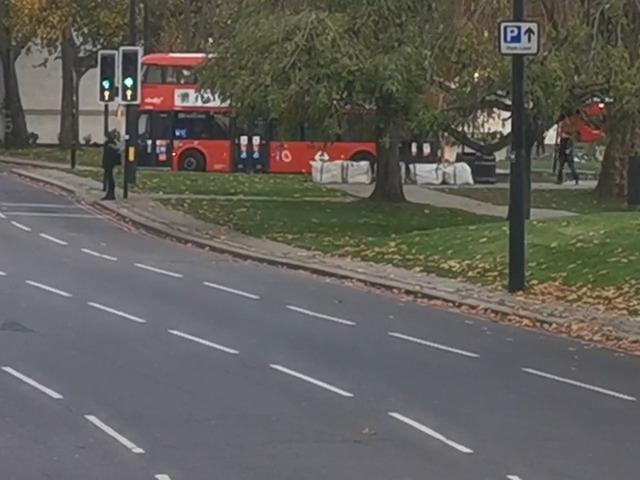bus: (129, 53, 466, 170)
